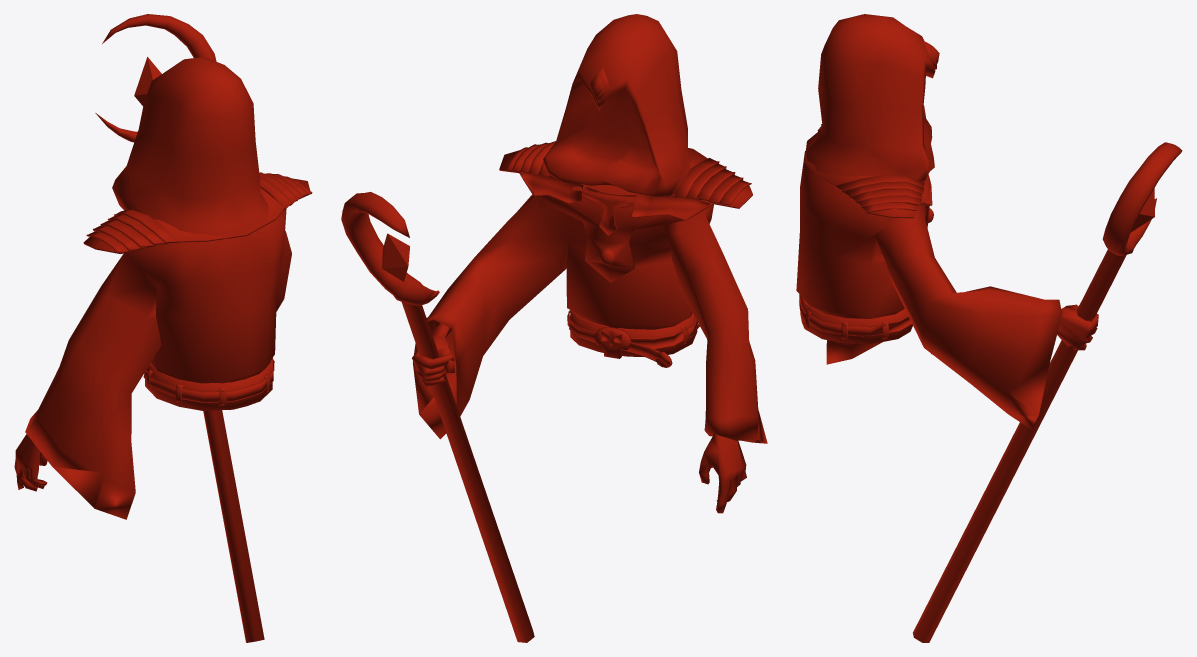
File: top_000066.obj
3 views of the same model, side by side, from view 1: azimuth 30°, elevation 25°; view 2: azimuth 150°, elevation 25°; view 3: azimuth 270°, elevation 25° (orthographic). The views are drawn at different scales.
Parts seen in each view (by area): view 1: LowPoly_Warlock.000_Plane.005; view 2: LowPoly_Warlock.000_Plane.005; view 3: LowPoly_Warlock.000_Plane.005.
Boxes of the visible parts, x1,y1,x2,y2 form: LowPoly_Warlock.000_Plane.005: (14, 14, 312, 642); LowPoly_Warlock.000_Plane.005: (341, 14, 767, 642); LowPoly_Warlock.000_Plane.005: (796, 14, 1182, 642).
Bounding box in the file's own units: 1.02 × 2.05 × 1.22.
